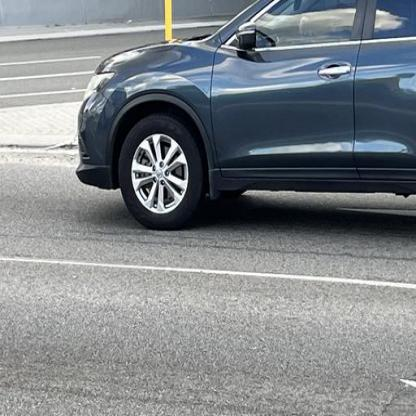Tire: (118, 115, 206, 231)
